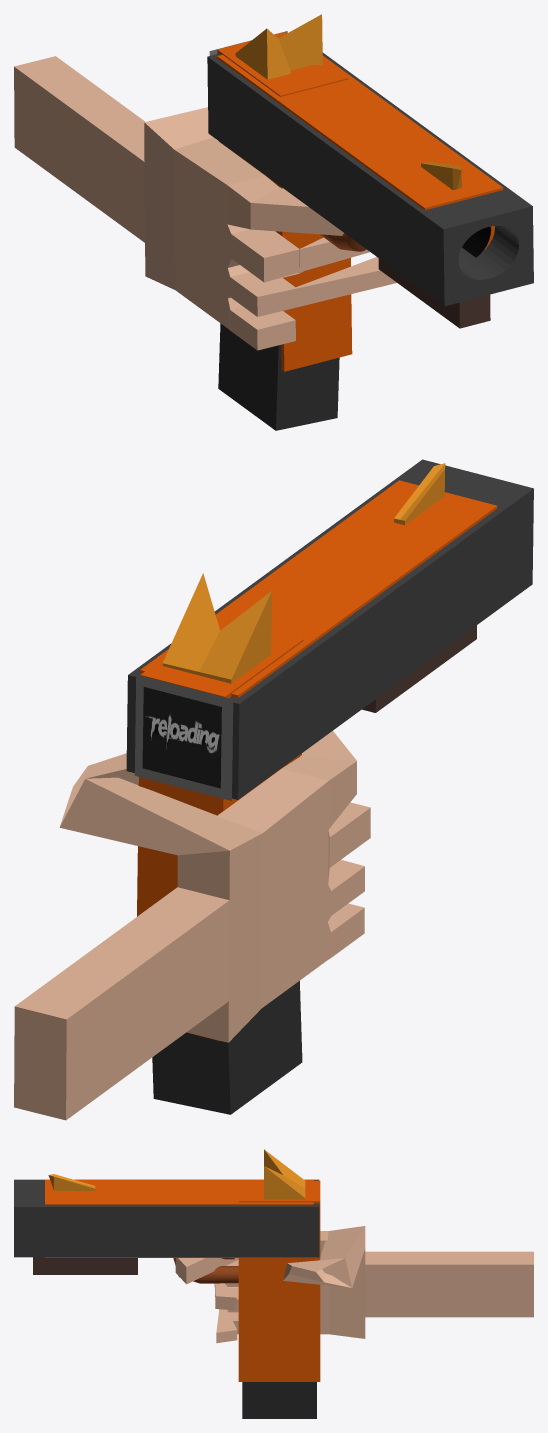
The model's file is gun pistol realoading frame 10.fbx.
3 renders of one model, top to bottom at view 1: azimuth 30°, elevation 25°; view 2: azimuth 150°, elevation 25°; view 3: azimuth 270°, elevation 25°, orthographic. The views are drawn at different scales.
Parts seen in each view (by area): view 1: Cube, Cube.005, Cube.001, Cube.004, Cube.002, Cube.006, Cube.003, Cube.007, Cylinder.002; view 2: Cube, Cube.005, Cube.001, Cube.004, Cube.006, Plane.001, Cube.002, Plane, Cube.003, Cube.007; view 3: Cube, Cube.005, Cube.002, Cube.001, Cube.004, Cube.003, Cube.006, Cylinder, Cube.007.
Part boxes in pixels (x1=…): Cube: x1=14, y1=56, x2=396, y2=350; Cube.005: x1=207, y1=52, x2=533, y2=306; Cube.001: x1=217, y1=54, x2=503, y2=251; Cube.004: x1=218, y1=323, x2=339, y2=430; Cube.002: x1=217, y1=32, x2=352, y2=371; Cube.006: x1=235, y1=14, x2=322, y2=79; Cube.003: x1=378, y1=258, x2=490, y2=328; Cube.007: x1=421, y1=161, x2=461, y2=190; Cylinder.002: x1=462, y1=226, x2=490, y2=257; Cube: x1=14, y1=731, x2=370, y2=1120; Cube.005: x1=126, y1=459, x2=533, y2=799; Cube.001: x1=140, y1=480, x2=497, y2=697; Cube.004: x1=152, y1=981, x2=302, y2=1114; Cube.006: x1=162, y1=573, x2=271, y2=683; Plane.001: x1=142, y1=687, x2=221, y2=788; Cube.002: x1=137, y1=617, x2=303, y2=1040; Plane: x1=134, y1=674, x2=233, y2=800; Cube.003: x1=362, y1=625, x2=476, y2=712; Cube.007: x1=394, y1=463, x2=445, y2=525; Cube: x1=175, y1=1226, x2=533, y2=1343; Cube.005: x1=14, y1=1179, x2=319, y2=1257; Cube.002: x1=238, y1=1180, x2=320, y2=1381; Cube.001: x1=45, y1=1180, x2=313, y2=1257; Cube.004: x1=242, y1=1382, x2=316, y2=1418; Cube.003: x1=33, y1=1257, x2=137, y2=1274; Cube.006: x1=264, y1=1149, x2=305, y2=1199; Cylinder: x1=173, y1=1258, x2=238, y2=1283; Cube.007: x1=48, y1=1174, x2=95, y2=1190.
Bounding box in the file's own units: 158 × 375 × 698.
Materials: 10 (1 with a texture image).
